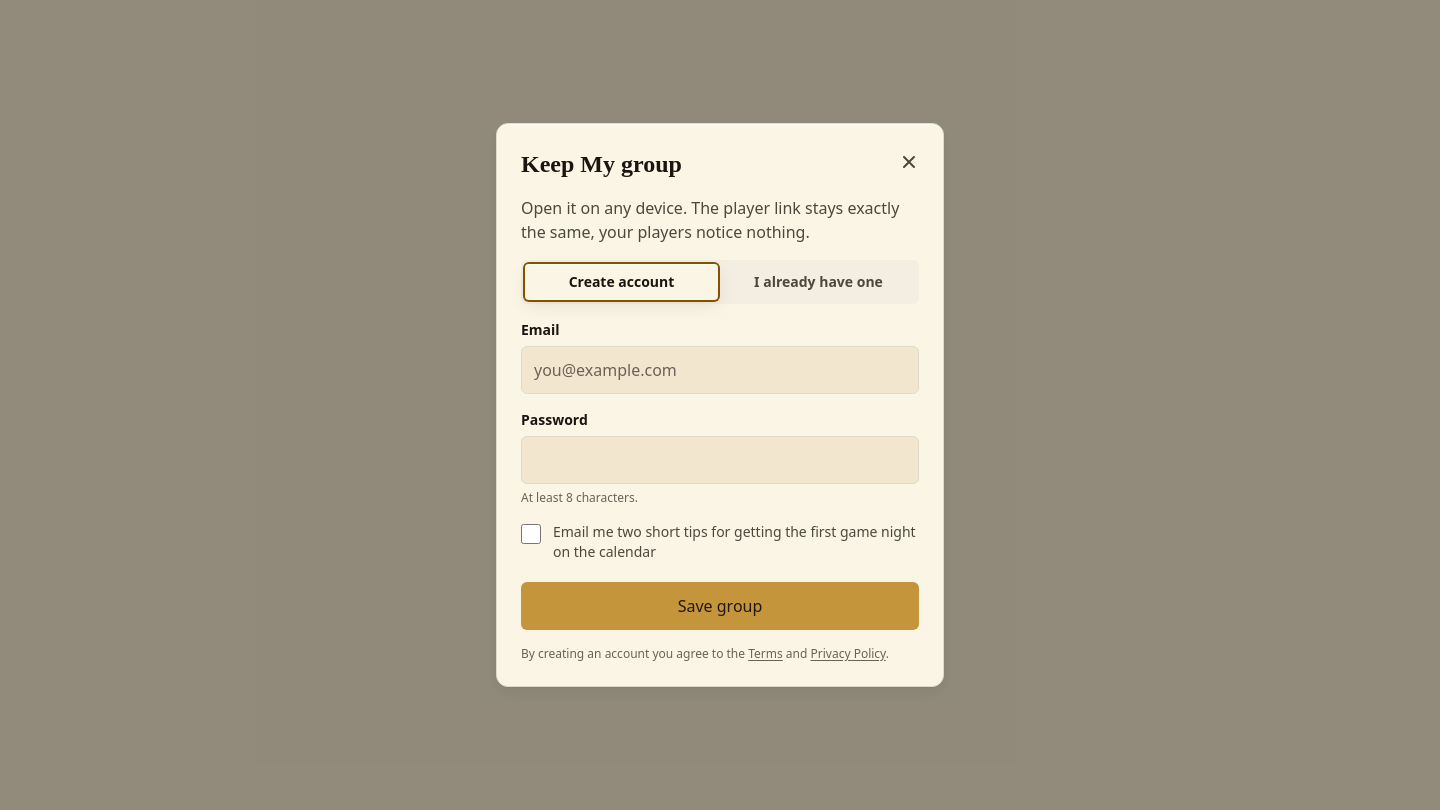
AccountSheet saving a Group › refuses a password under 8 characters before asking the server
Check: the text "At least 8 characters." is shown, box [521, 489, 638, 506]
Type "gm@example.test" into the field labelled "Email". click: (720, 370)
box: [521, 346, 919, 394]
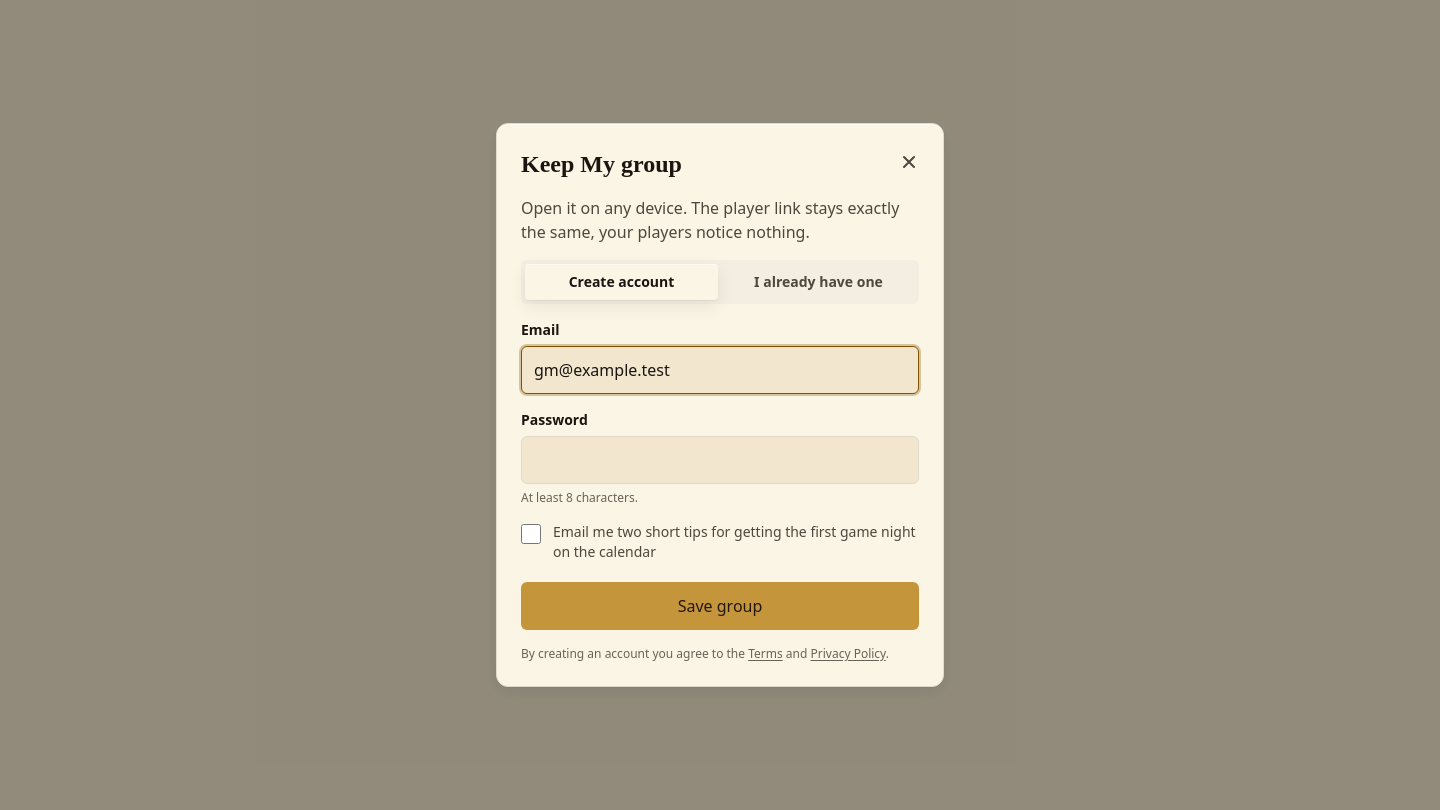
Type "short" into the password field labelled "Password". click: (720, 460)
box: [521, 436, 919, 484]
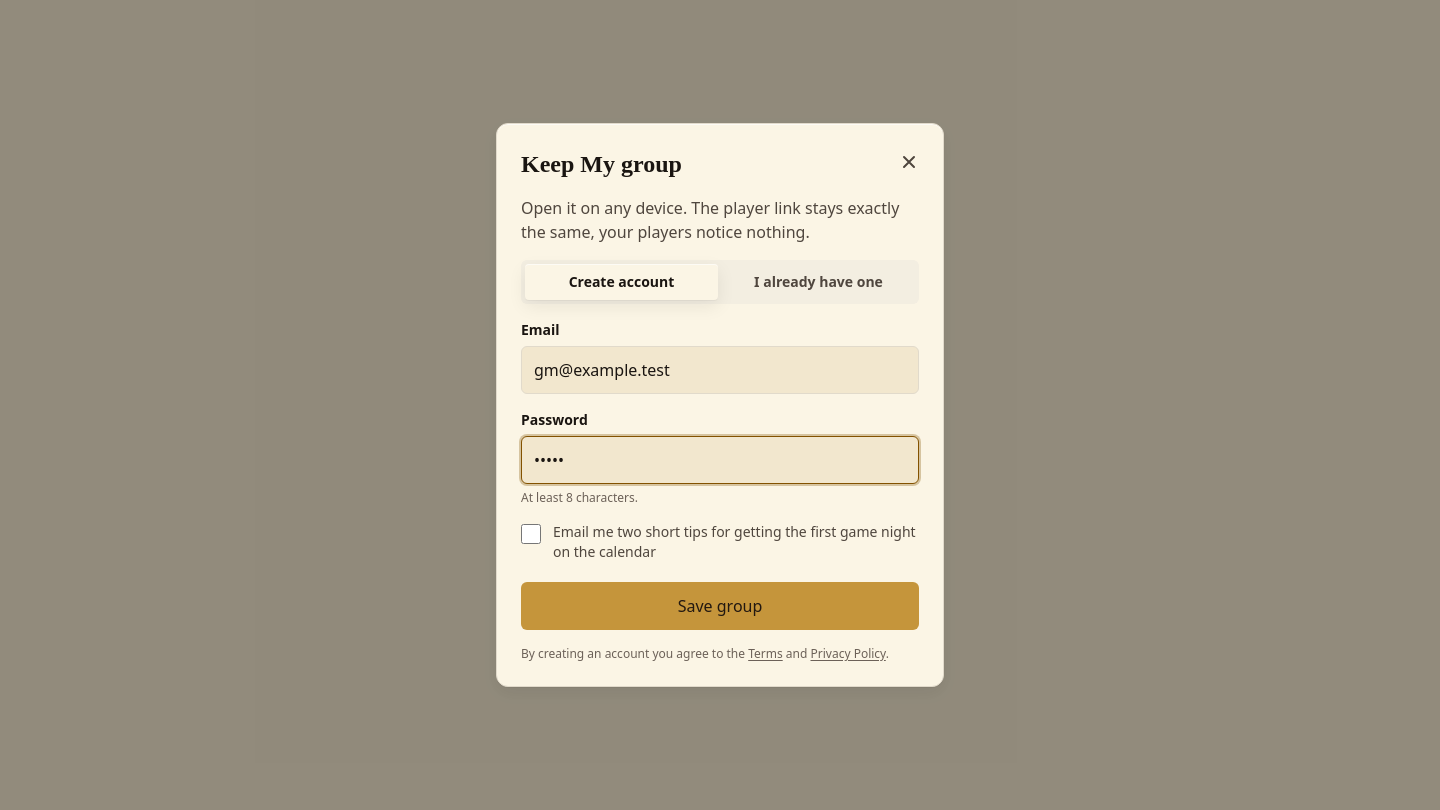
Click the button "Save group". click: click(720, 606)
box: [521, 582, 919, 630]
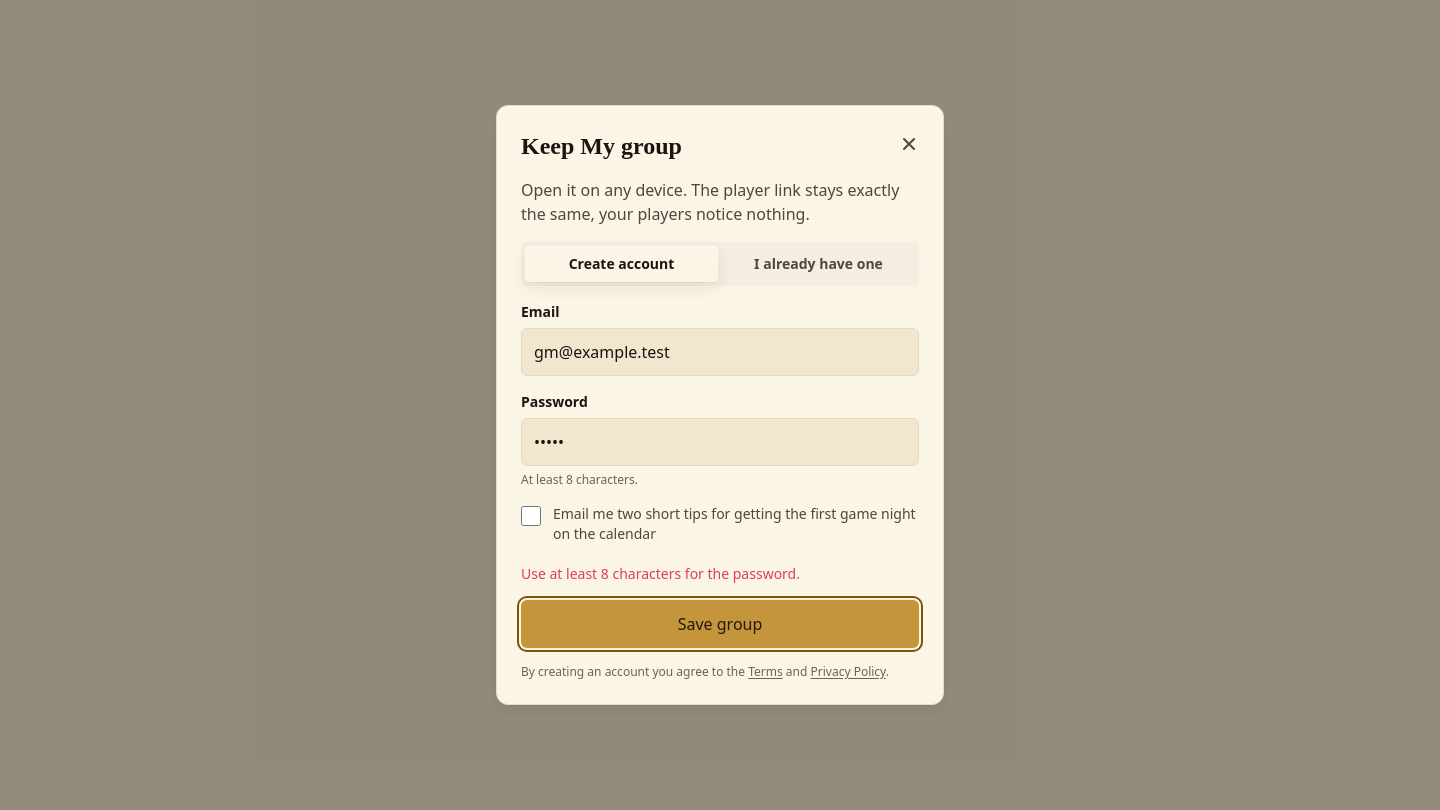
Check: the message reads "Use at least 8 characters for the password.", box [521, 564, 800, 583]
